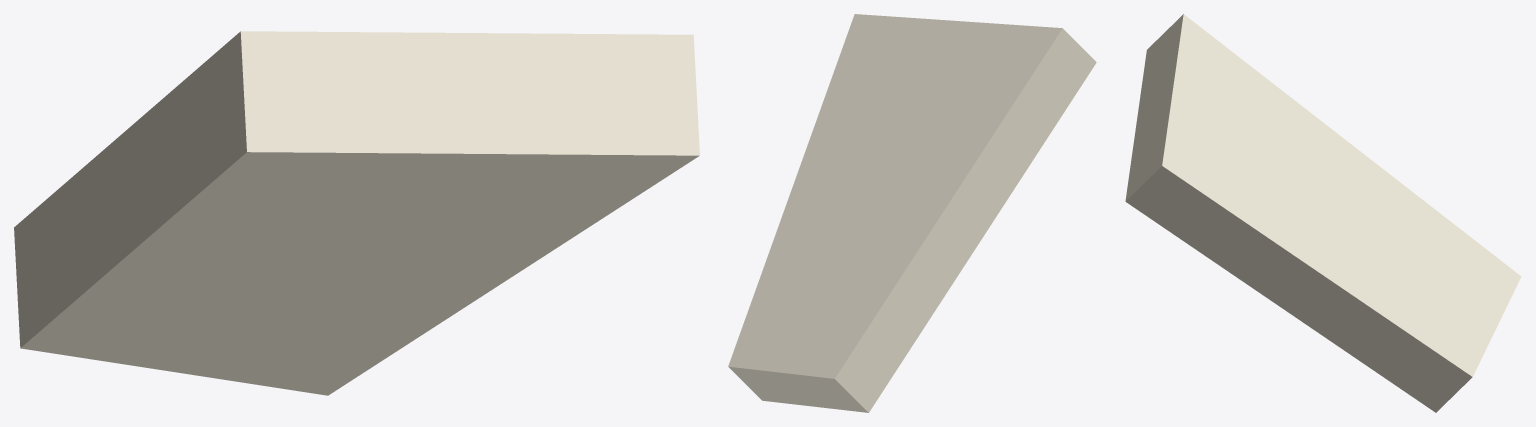
3 renders of one model, left to right at view 1: azimuth 30°, elevation 25°; view 2: azimuth 150°, elevation 25°; view 3: azimuth 270°, elevation 25°, orthographic. The views are drawn at different scales.
Visible parts, largest first — view 1: ZA_c8a0ea89cdd55bdc; view 2: ZA_c8a0ea89cdd55bdc; view 3: ZA_c8a0ea89cdd55bdc.
Boxes of the visible parts, box(x1,y1,x2,y2) form: ZA_c8a0ea89cdd55bdc: box(14, 31, 699, 395); ZA_c8a0ea89cdd55bdc: box(728, 14, 1096, 412); ZA_c8a0ea89cdd55bdc: box(1125, 14, 1521, 412).
Bounding box in the file's own units: 0.00212 × 0.00278 × 0.00316.
